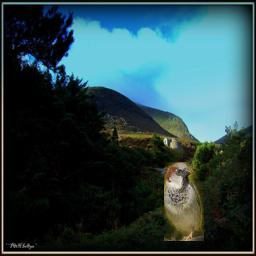Sparrow: (164, 162, 204, 241)
